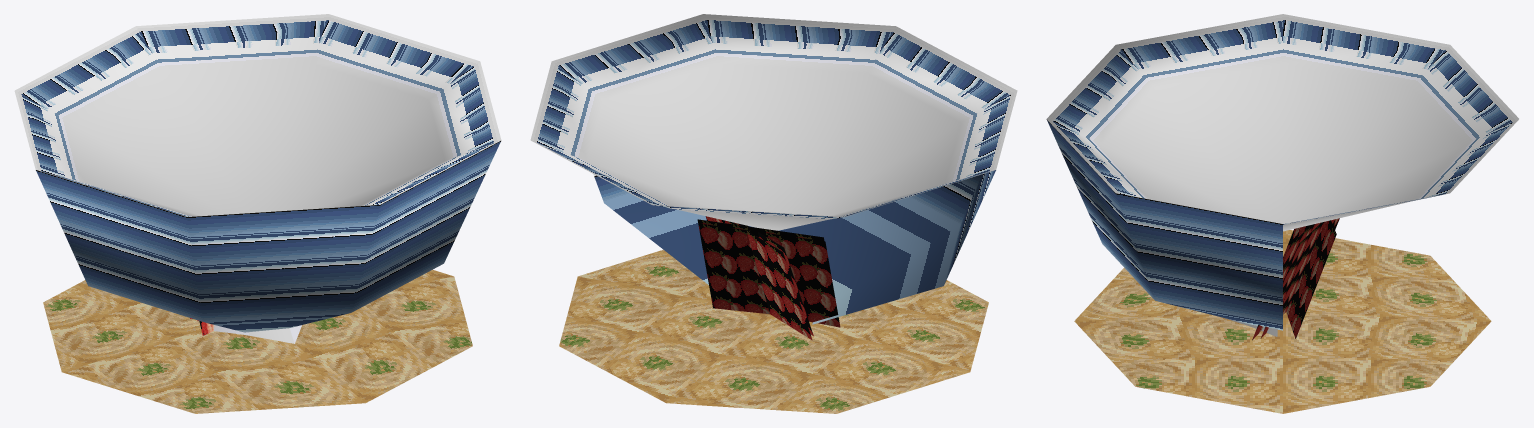
Rendered from 5516u_udon00_hs.gltf.
The picture shows the model from 3 angles, left to right: view 1: azimuth 30°, elevation 25°; view 2: azimuth 150°, elevation 25°; view 3: azimuth 270°, elevation 25°; orthographic projection. The views are drawn at different scales.
Visible parts, largest first — view 1: 5516u_udon00_hs; view 2: 5516u_udon00_hs; view 3: 5516u_udon00_hs.
Boxes of the visible parts, x1,y1,x2,y2 form: 5516u_udon00_hs: (14,14,501,413); 5516u_udon00_hs: (530,14,1017,413); 5516u_udon00_hs: (1046,14,1518,413).
Bounding box in the file's own units: 0.7798 × 0.416 × 0.7419.
Materials: 5 (5 with a texture image).
